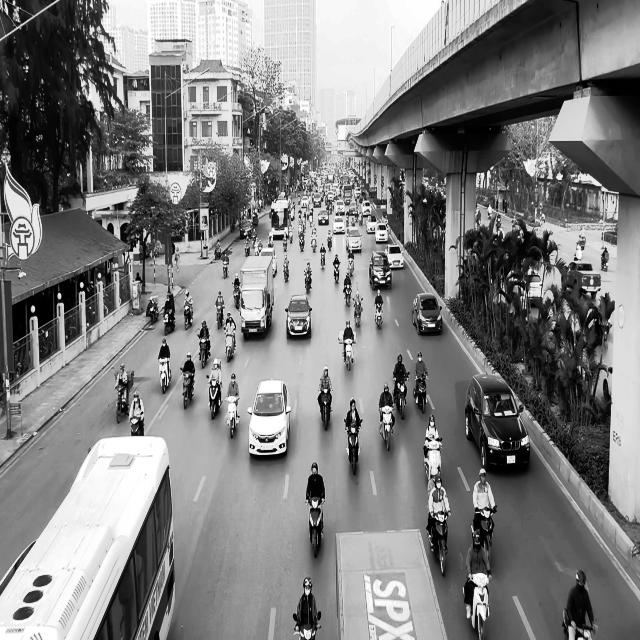bus: (0, 434, 176, 639)
car: (464, 373, 530, 472), (247, 378, 291, 457), (561, 260, 601, 299), (412, 292, 442, 335), (285, 294, 312, 339), (368, 250, 392, 290), (523, 272, 543, 306), (384, 244, 404, 269), (345, 226, 362, 252)
motorbike: (464, 573, 492, 639), (427, 511, 450, 576), (473, 506, 497, 562), (306, 494, 324, 558), (562, 608, 598, 639), (344, 418, 362, 475), (423, 437, 443, 483), (293, 610, 321, 640), (378, 404, 394, 452), (393, 372, 409, 419), (206, 374, 222, 420), (224, 396, 240, 438), (114, 383, 130, 423), (180, 367, 195, 409), (319, 382, 332, 430), (414, 372, 428, 413), (158, 357, 171, 393), (198, 334, 210, 368), (224, 327, 235, 362), (163, 308, 175, 335), (353, 298, 363, 327), (183, 303, 193, 330), (148, 298, 158, 324), (374, 300, 383, 328), (232, 282, 240, 310), (216, 303, 224, 329), (343, 280, 351, 306), (304, 270, 312, 293), (601, 249, 609, 271), (332, 262, 340, 283), (222, 254, 228, 278), (283, 260, 289, 282)
truck: (239, 252, 275, 340)
